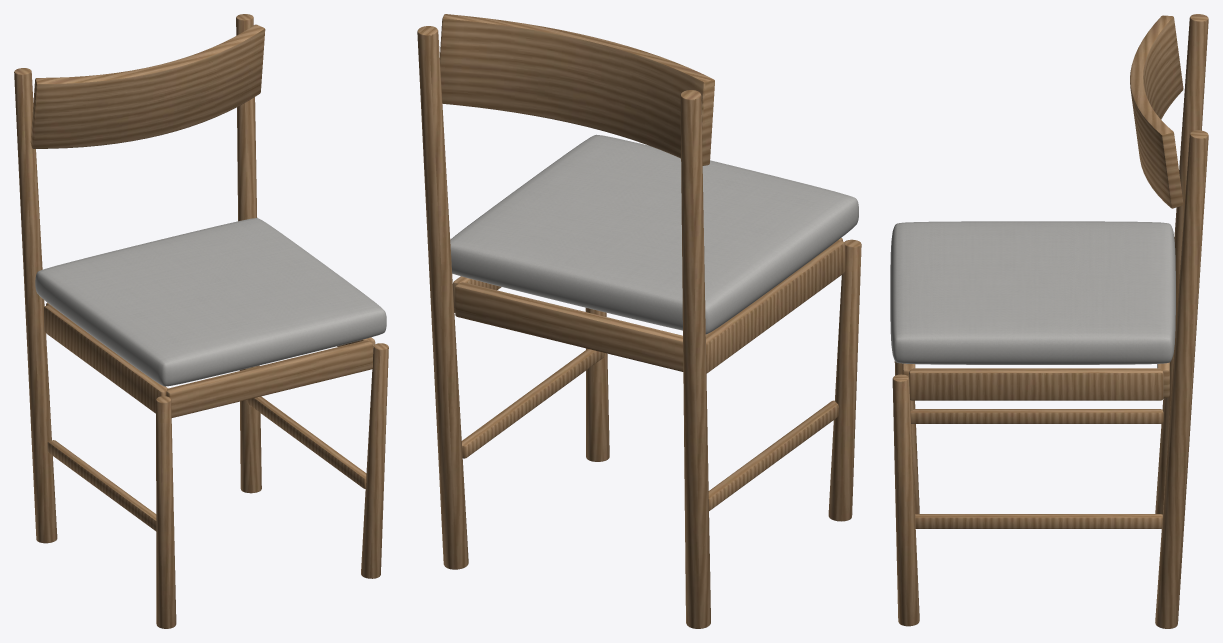
File: silla-roble-v2.gltf
3 renders of one model, left to right at view 1: azimuth 30°, elevation 25°; view 2: azimuth 150°, elevation 25°; view 3: azimuth 270°, elevation 25°, orthographic. The views are drawn at different scales.
Visible parts, largest first — view 1: silla-roble__f_lino_gris, silla-roble__w_roble, silla-roble__w_roble_x; view 2: silla-roble__f_lino_gris, silla-roble__w_roble, silla-roble__w_roble_x; view 3: silla-roble__f_lino_gris, silla-roble__w_roble, silla-roble__w_roble_x.
Boxes of the visible parts, box(x1,y1,x2,y2) form: silla-roble__f_lino_gris: box(35, 218, 386, 386); silla-roble__w_roble: box(14, 14, 388, 628); silla-roble__w_roble_x: box(30, 24, 372, 417); silla-roble__f_lino_gris: box(450, 134, 858, 334); silla-roble__w_roble: box(417, 26, 861, 628); silla-roble__w_roble_x: box(440, 14, 842, 371); silla-roble__f_lino_gris: box(890, 221, 1175, 364); silla-roble__w_roble: box(892, 14, 1208, 628); silla-roble__w_roble_x: box(902, 15, 1183, 397).
Bounding box in the file's own units: 0.4637 × 0.8626 × 0.5006.
Materials: 3 (3 with a texture image).
